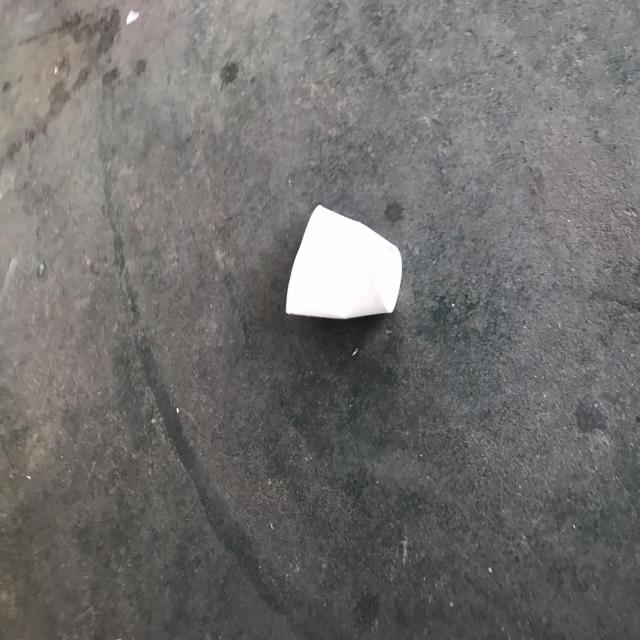paperpack: (286, 204, 402, 318)
